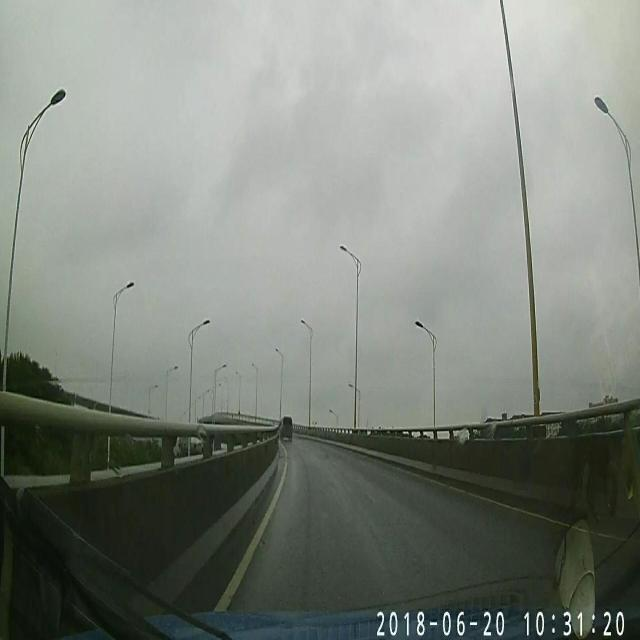car: (278, 414, 292, 440)
